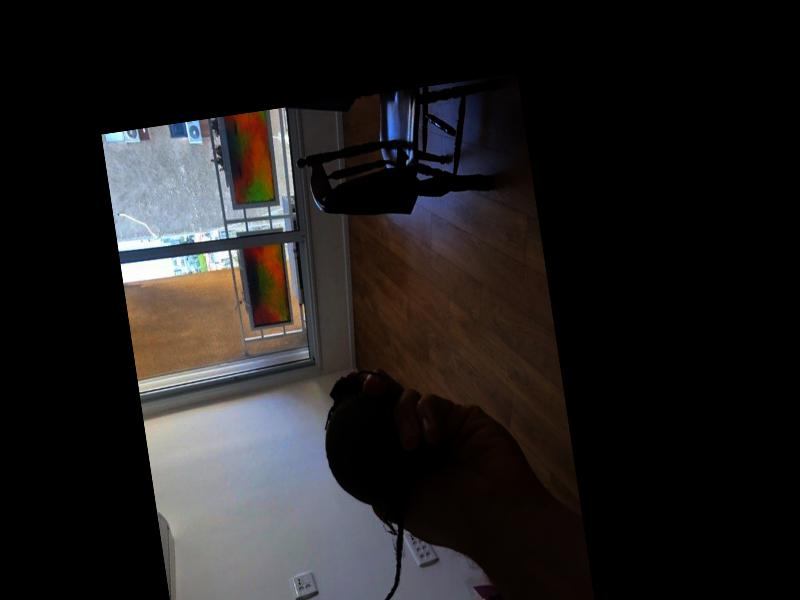Beet: (315, 364, 428, 600)
